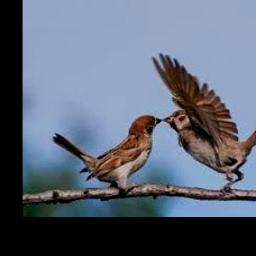Sparrow: (152, 54, 256, 191), (52, 114, 161, 194)
